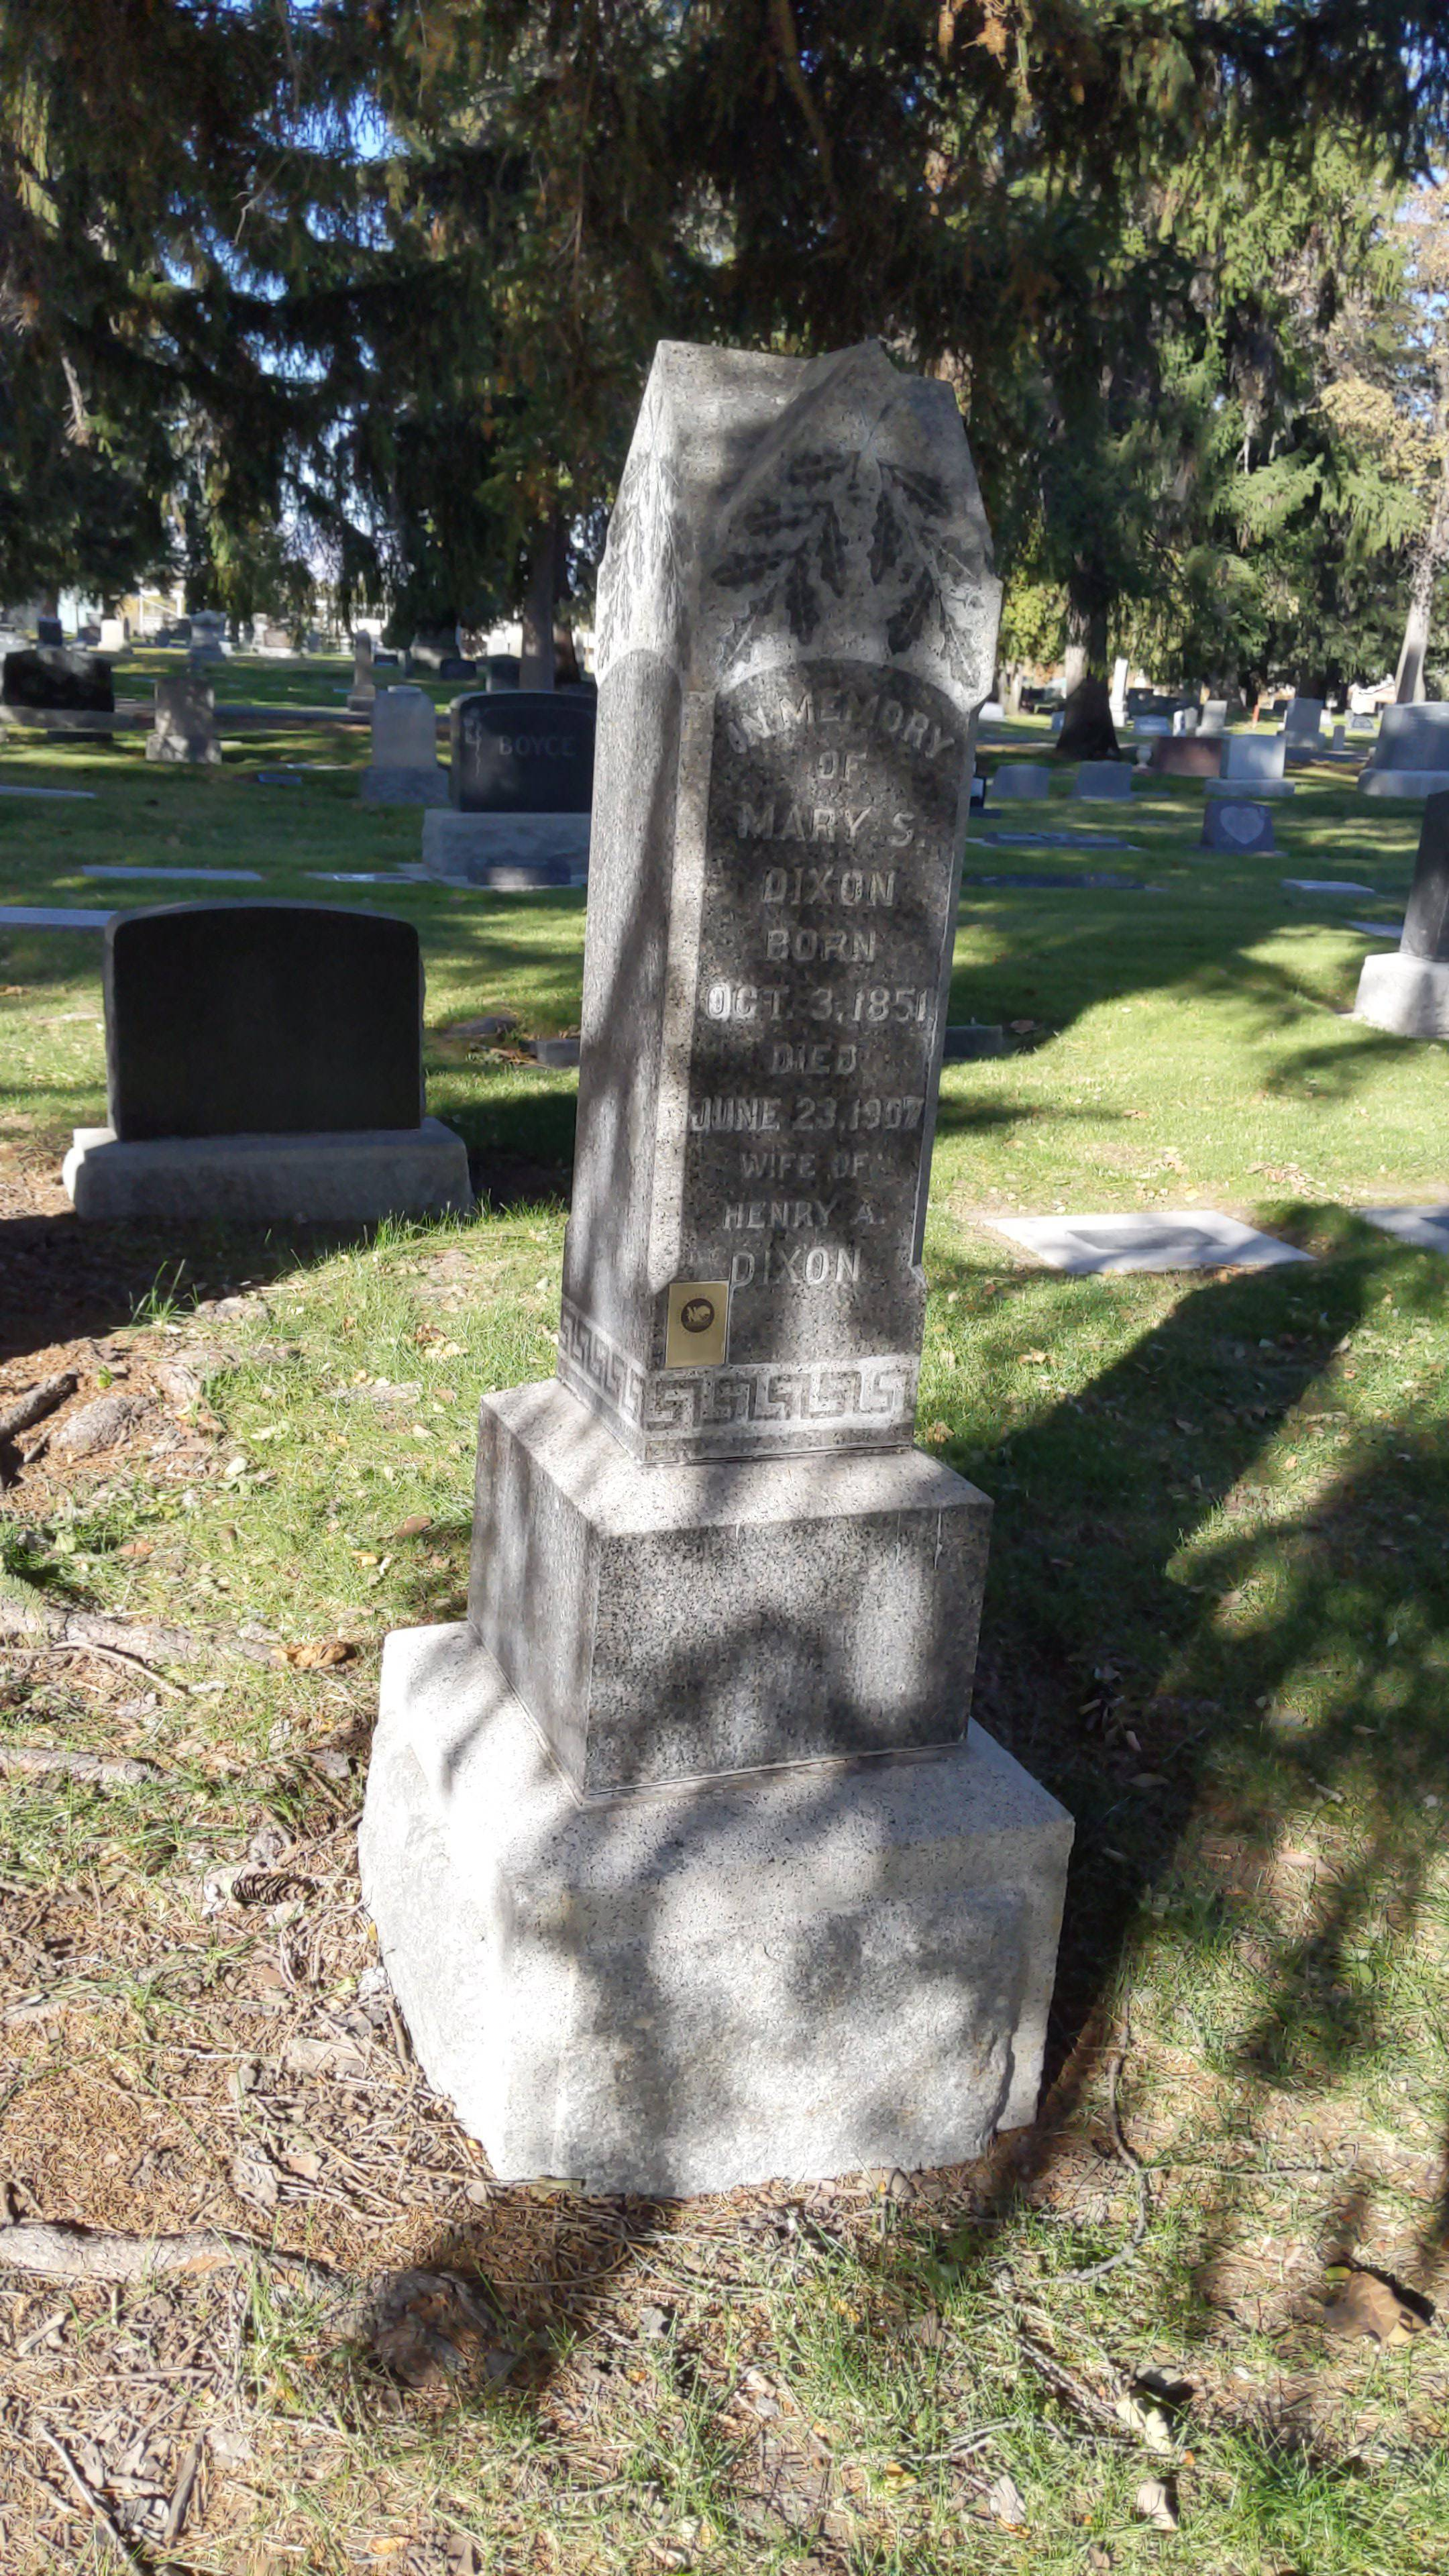obelisk: (474, 349, 962, 1771)
